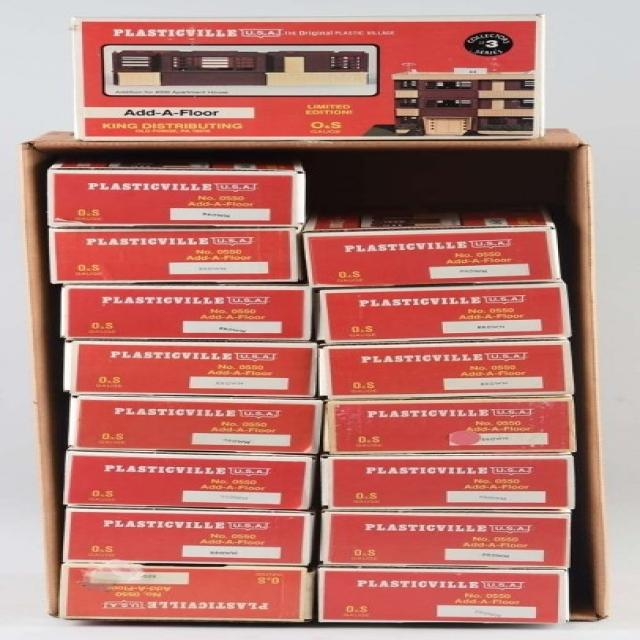box: (69, 15, 544, 142), (302, 206, 560, 289), (46, 157, 303, 229), (307, 283, 568, 343), (317, 511, 568, 572), (324, 394, 578, 454), (320, 339, 573, 399), (72, 394, 324, 454), (64, 507, 320, 566), (65, 450, 315, 509), (49, 225, 302, 283), (67, 340, 320, 398), (314, 565, 566, 623), (61, 564, 317, 621), (320, 456, 574, 511), (64, 285, 311, 341)
